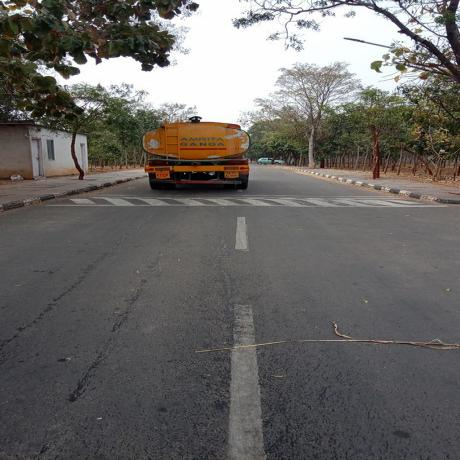Speed Bump: (26, 194, 441, 207)
